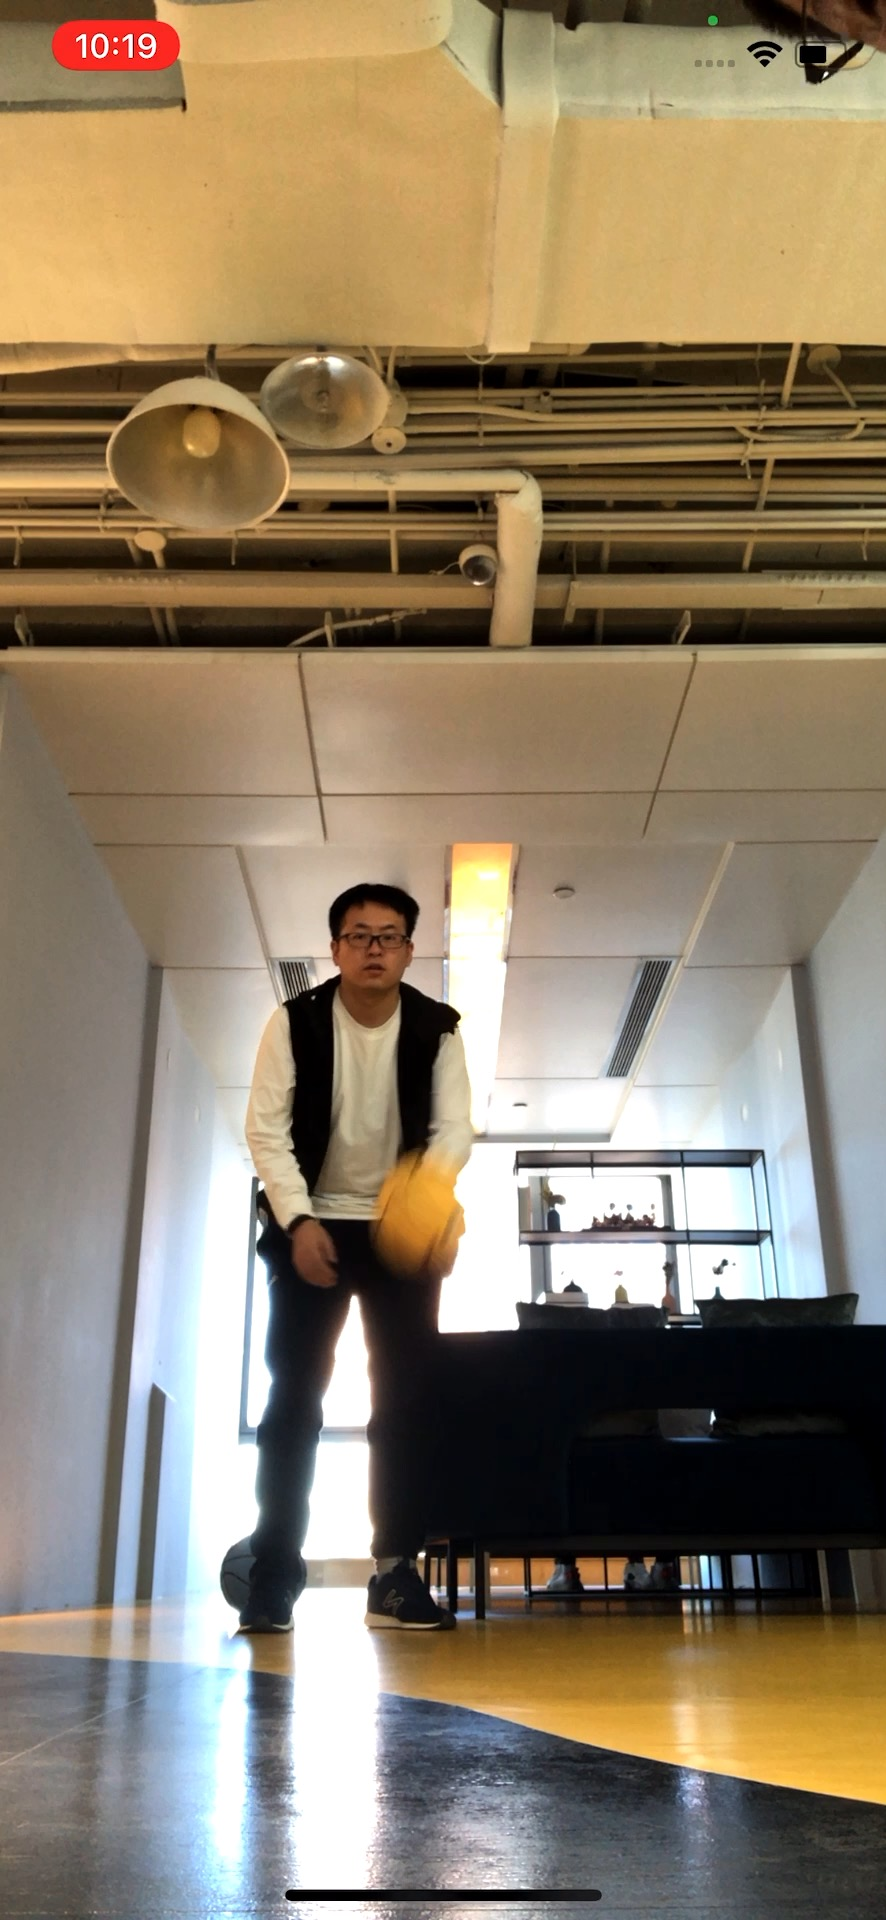ball: (363, 1161, 474, 1280)
